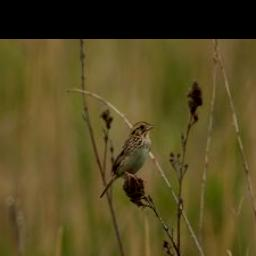Sparrow: (97, 119, 156, 197)
